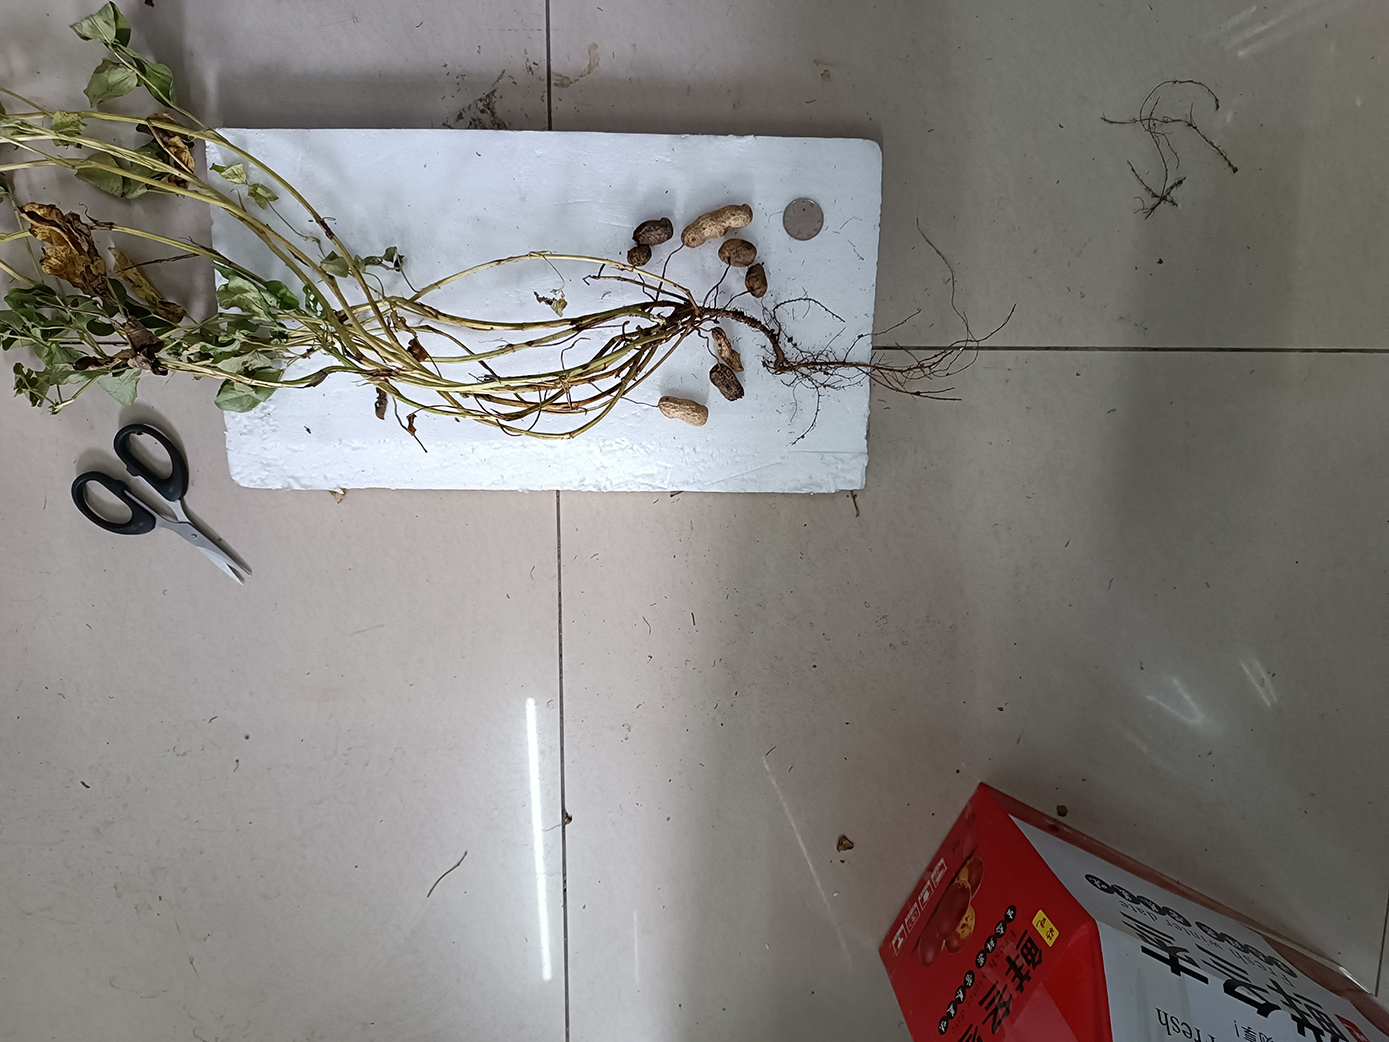h: (681, 206, 753, 247), (658, 396, 710, 427)
l: (711, 327, 743, 373), (630, 217, 675, 246), (709, 364, 744, 401), (717, 239, 759, 267), (745, 265, 768, 297), (625, 246, 653, 267)
